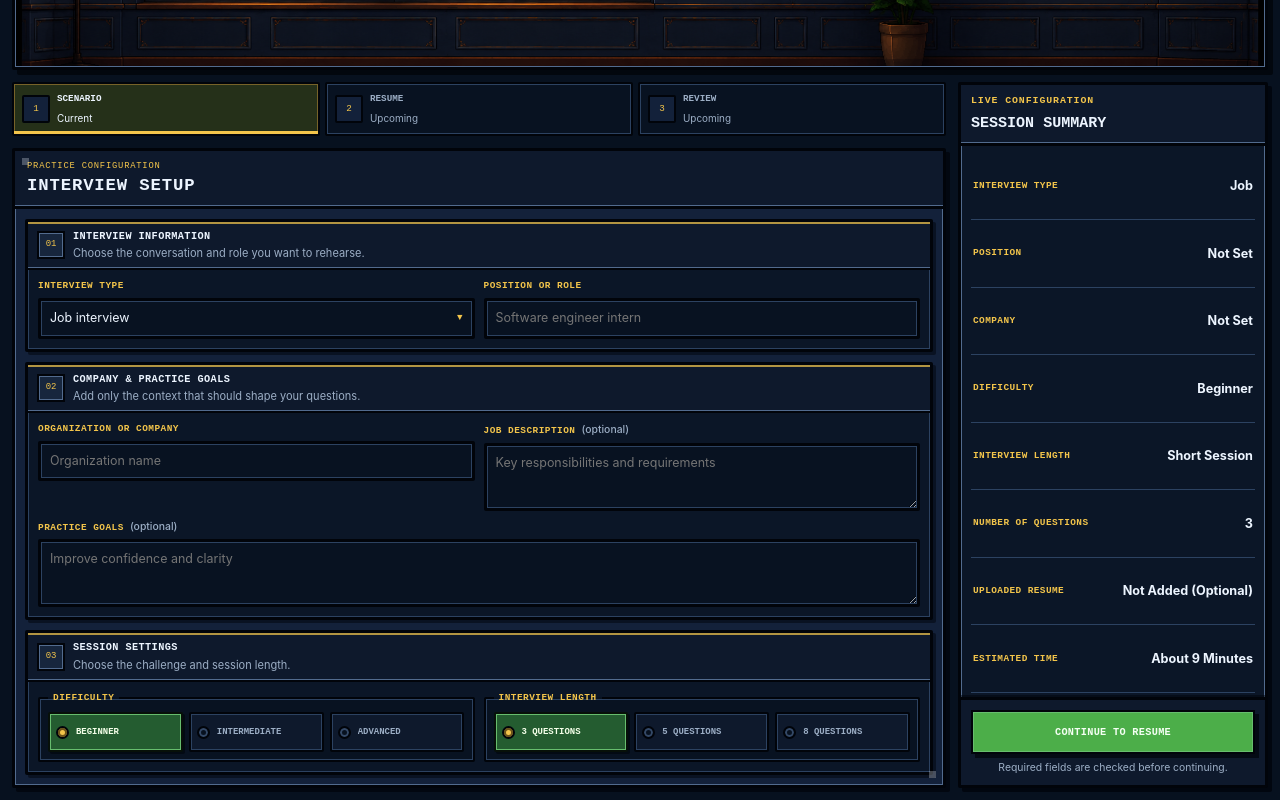
Test: InterviewSimulator › renders the RPG setup controls, progress tracker, and live summary
(page scrolled)
expect the heading "Interview Setup" is shown: met, box [27,176,195,195]
expect the dropdown labelled "Interview type" shows "Job interview": met, box [38,298,474,339]
Click the radio button labelled "Intermediate" at (256, 732), box [189,712,324,752]
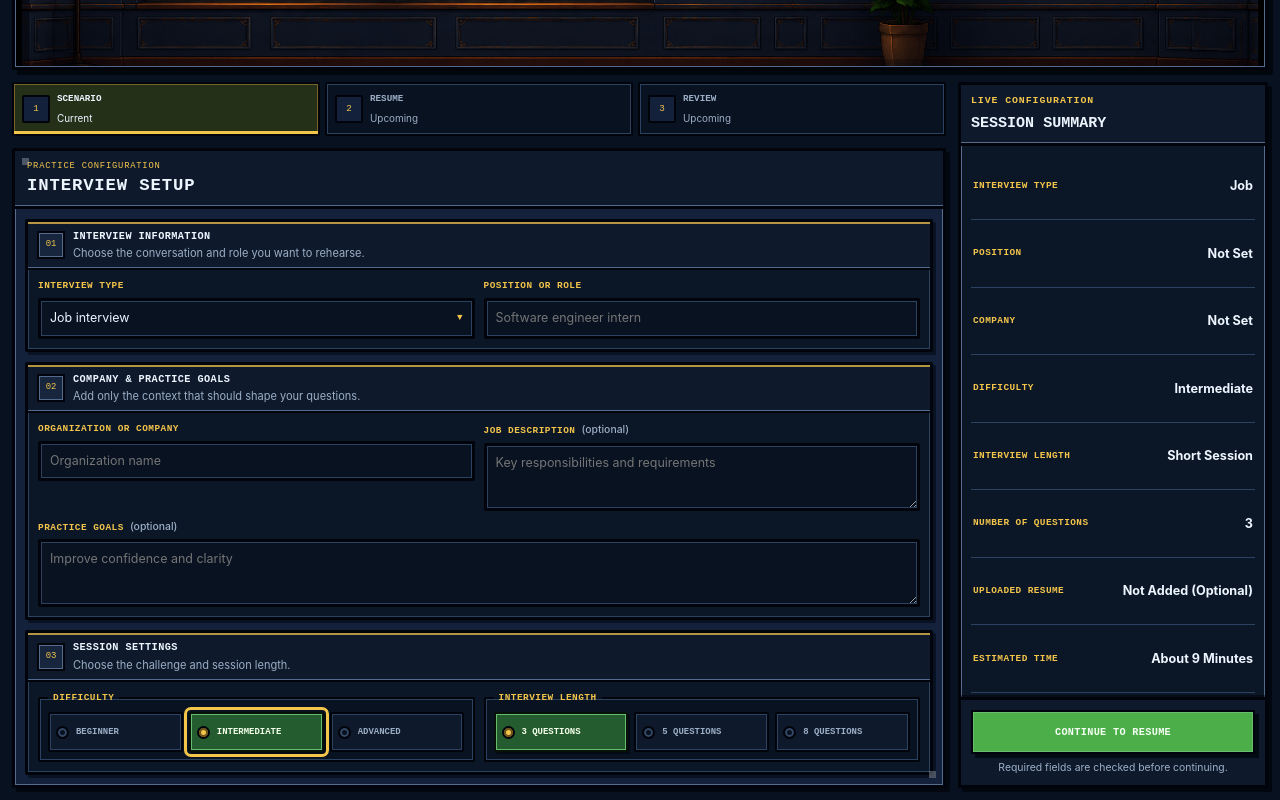
Click the radio button labelled "5 questions" at (702, 732), box [634,712,769,752]
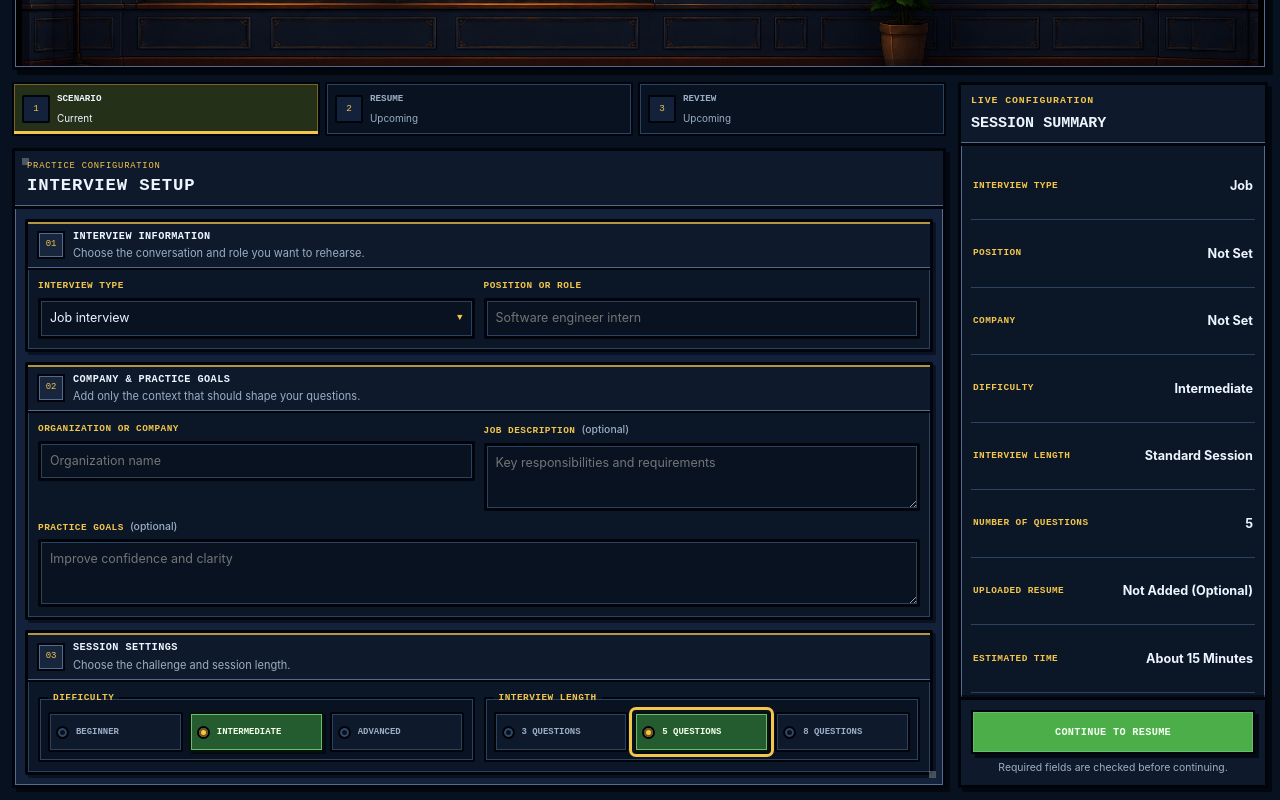
expect the radio button labelled "Intermediate" is checked: met, box [189,712,324,752]
expect the radio button labelled "5 questions" is checked: met, box [634,712,769,752]
expect the text "Standard session" is shown: met, box [1145,448,1253,463]
